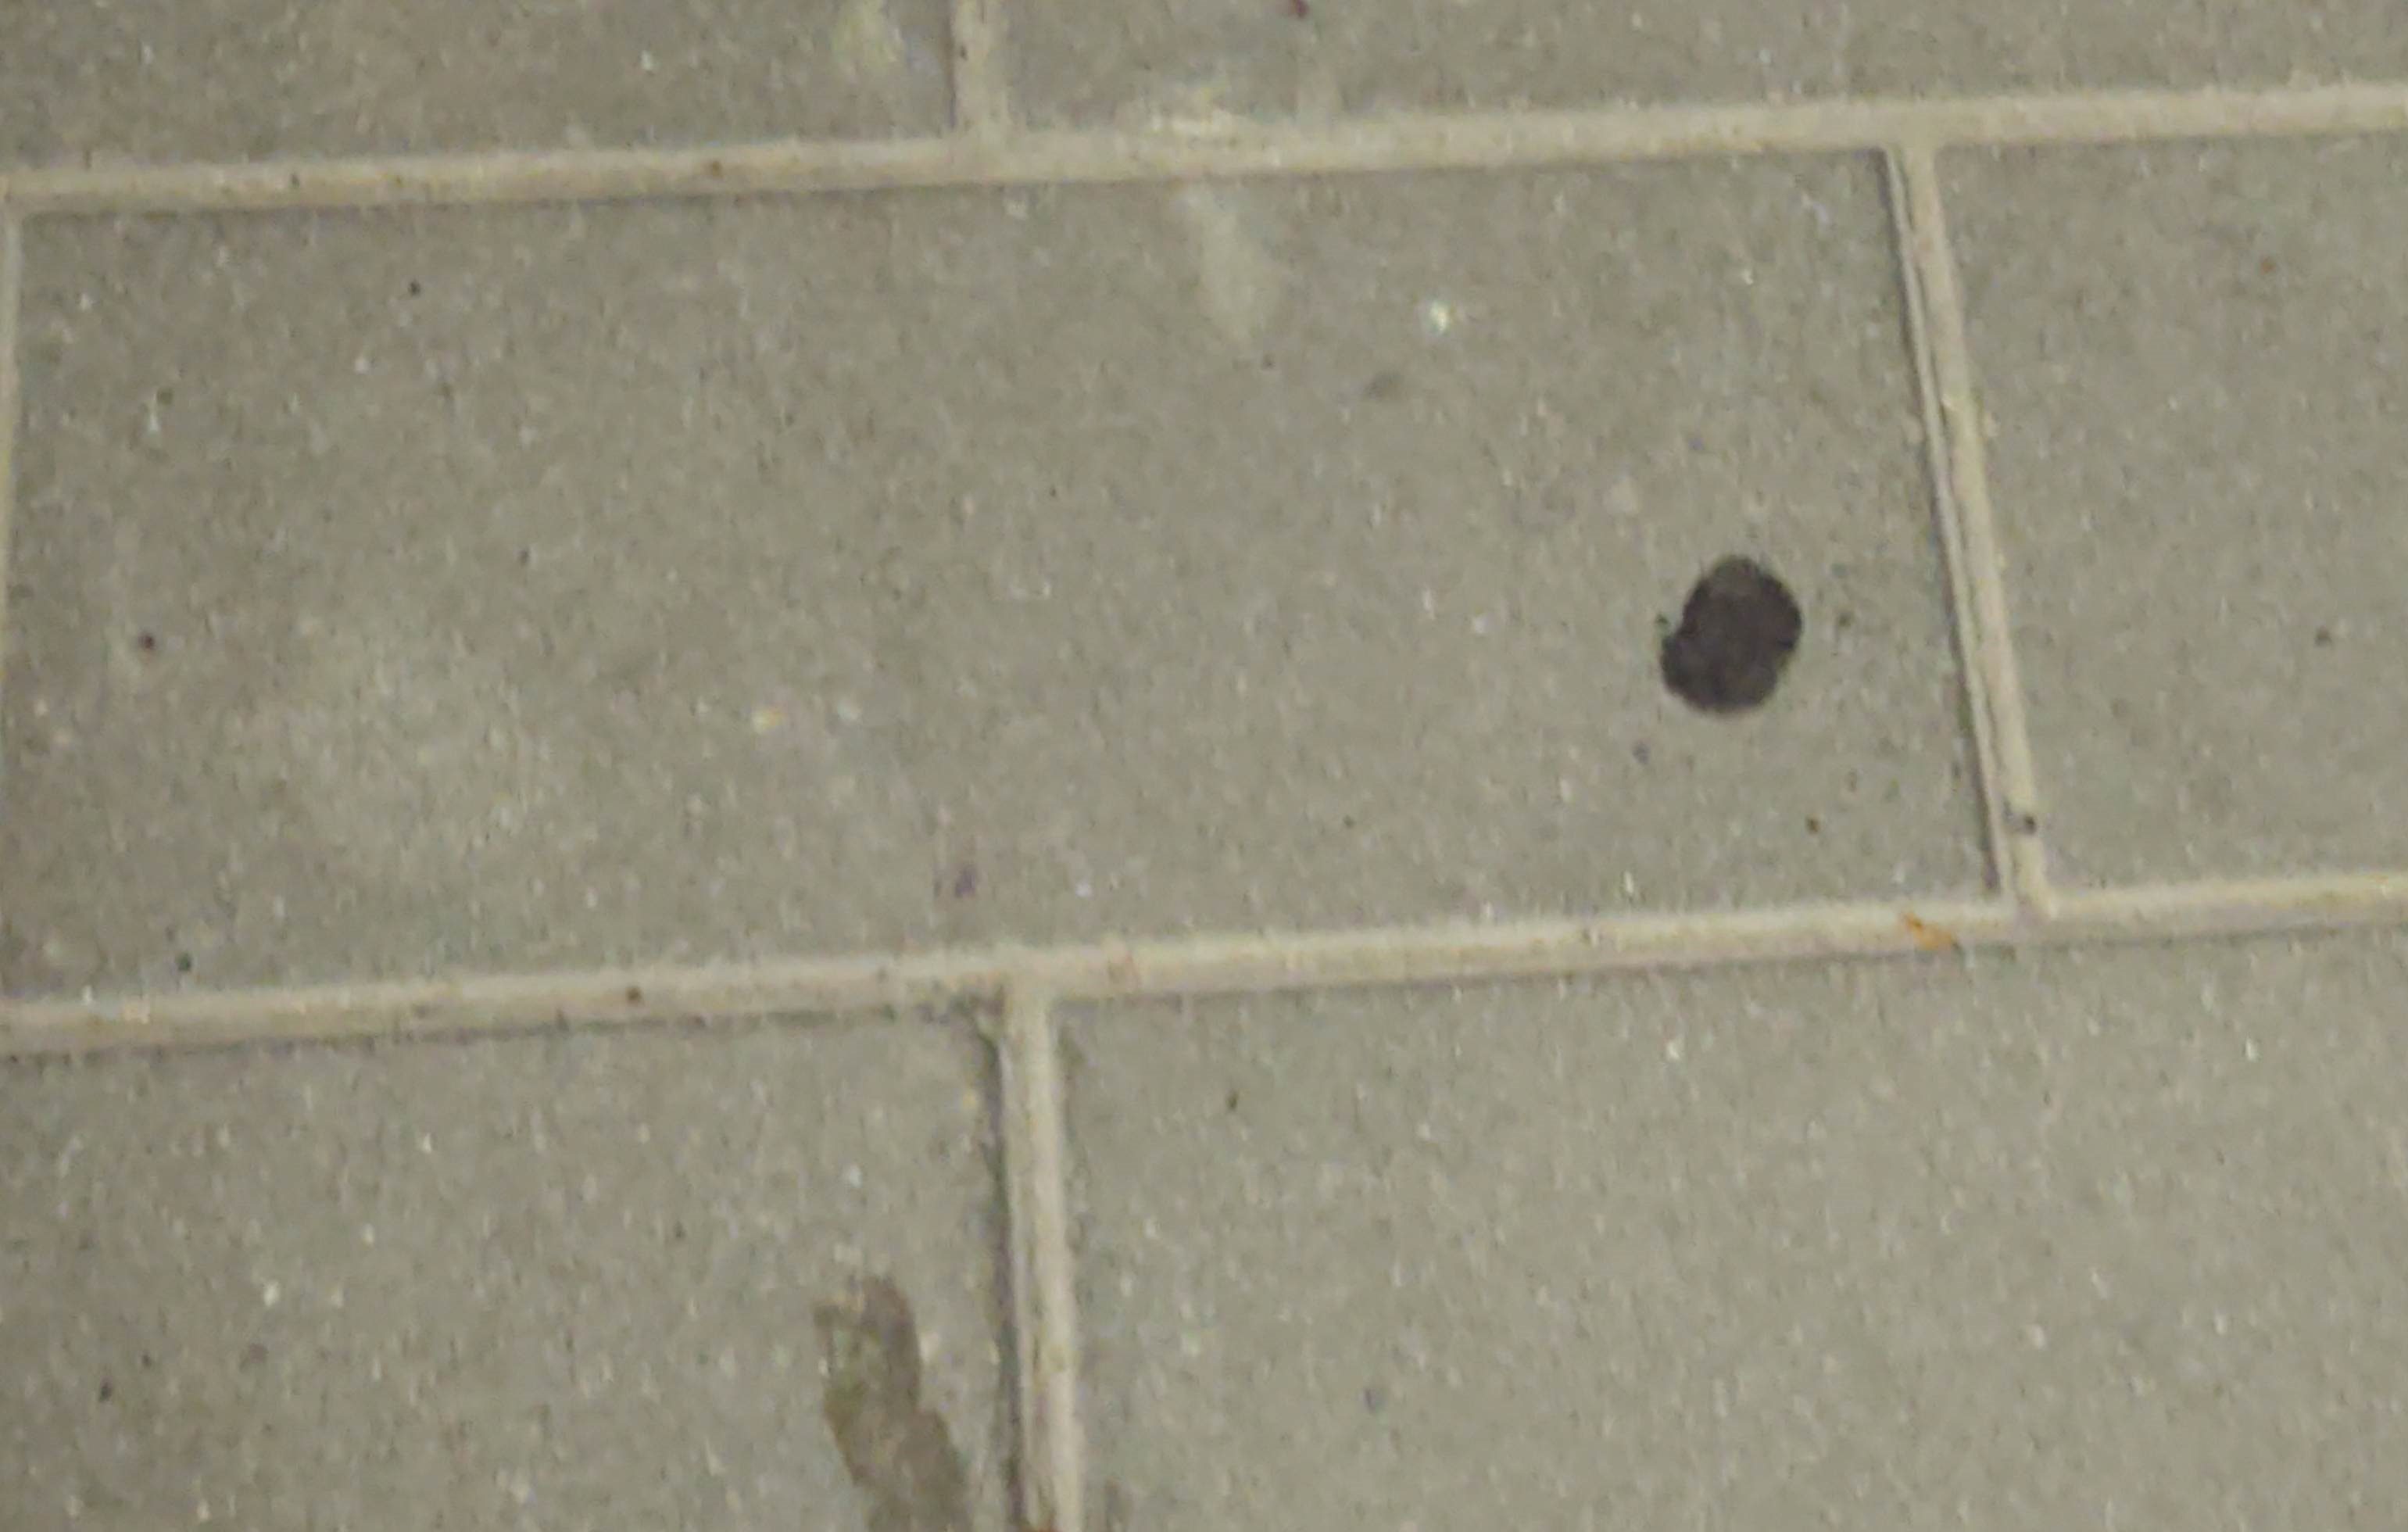grey spot: (1660, 551, 1804, 718)
